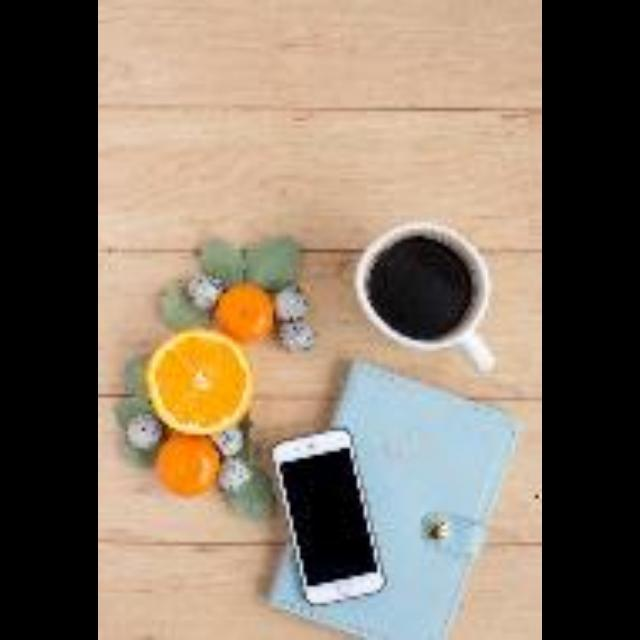Phone: (273, 426, 387, 604)
